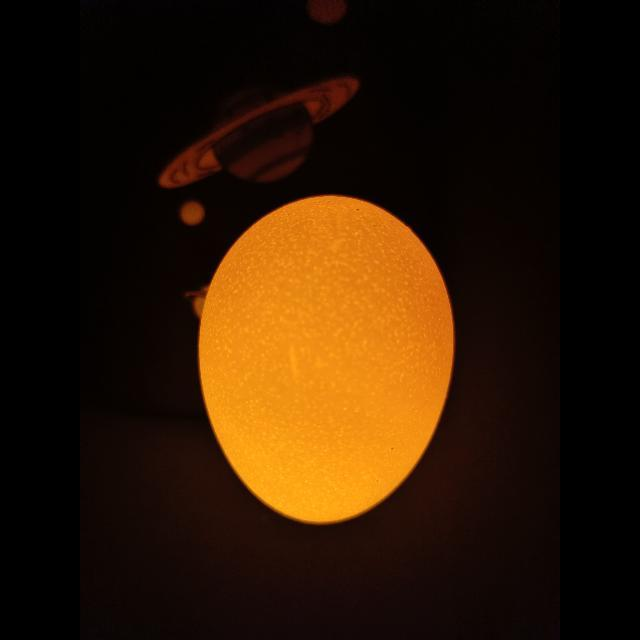AA - Premium: (199, 196, 454, 524)
